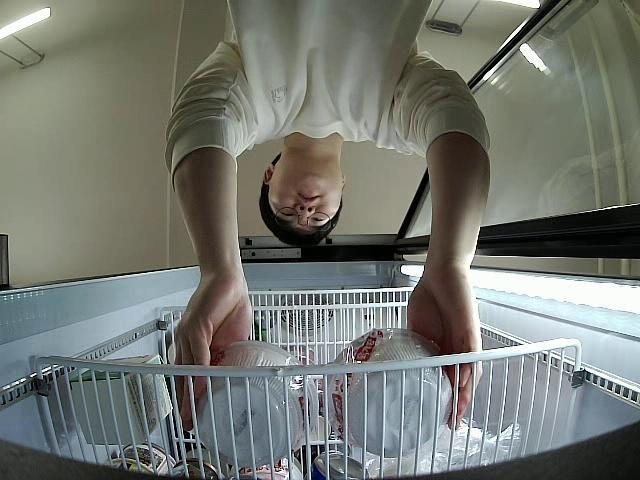09_yukGaeJang: (322, 328, 453, 457), (192, 340, 317, 468)
